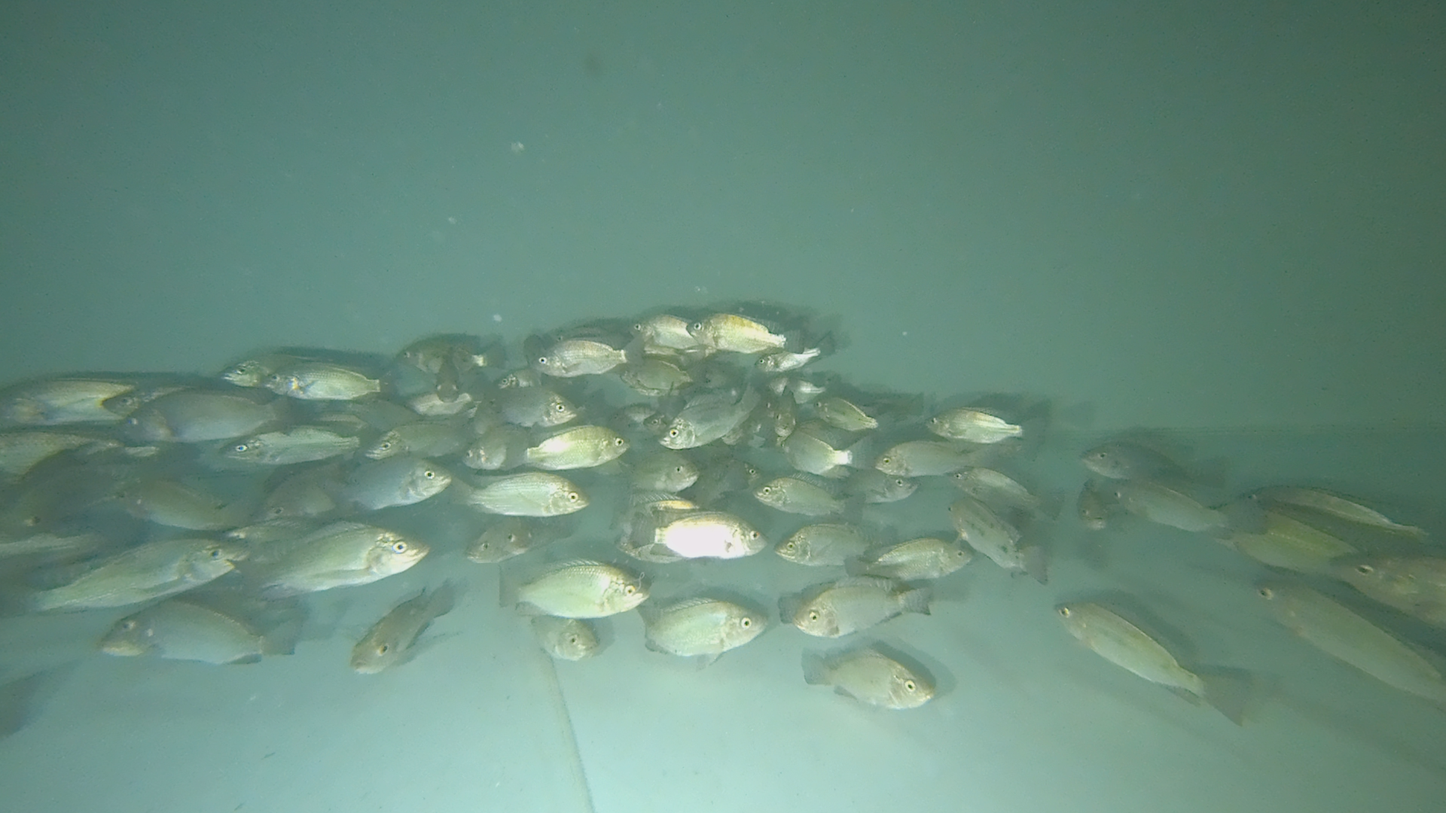fish: (444, 468, 592, 517), (631, 510, 769, 562), (256, 362, 402, 401), (534, 336, 647, 376)
